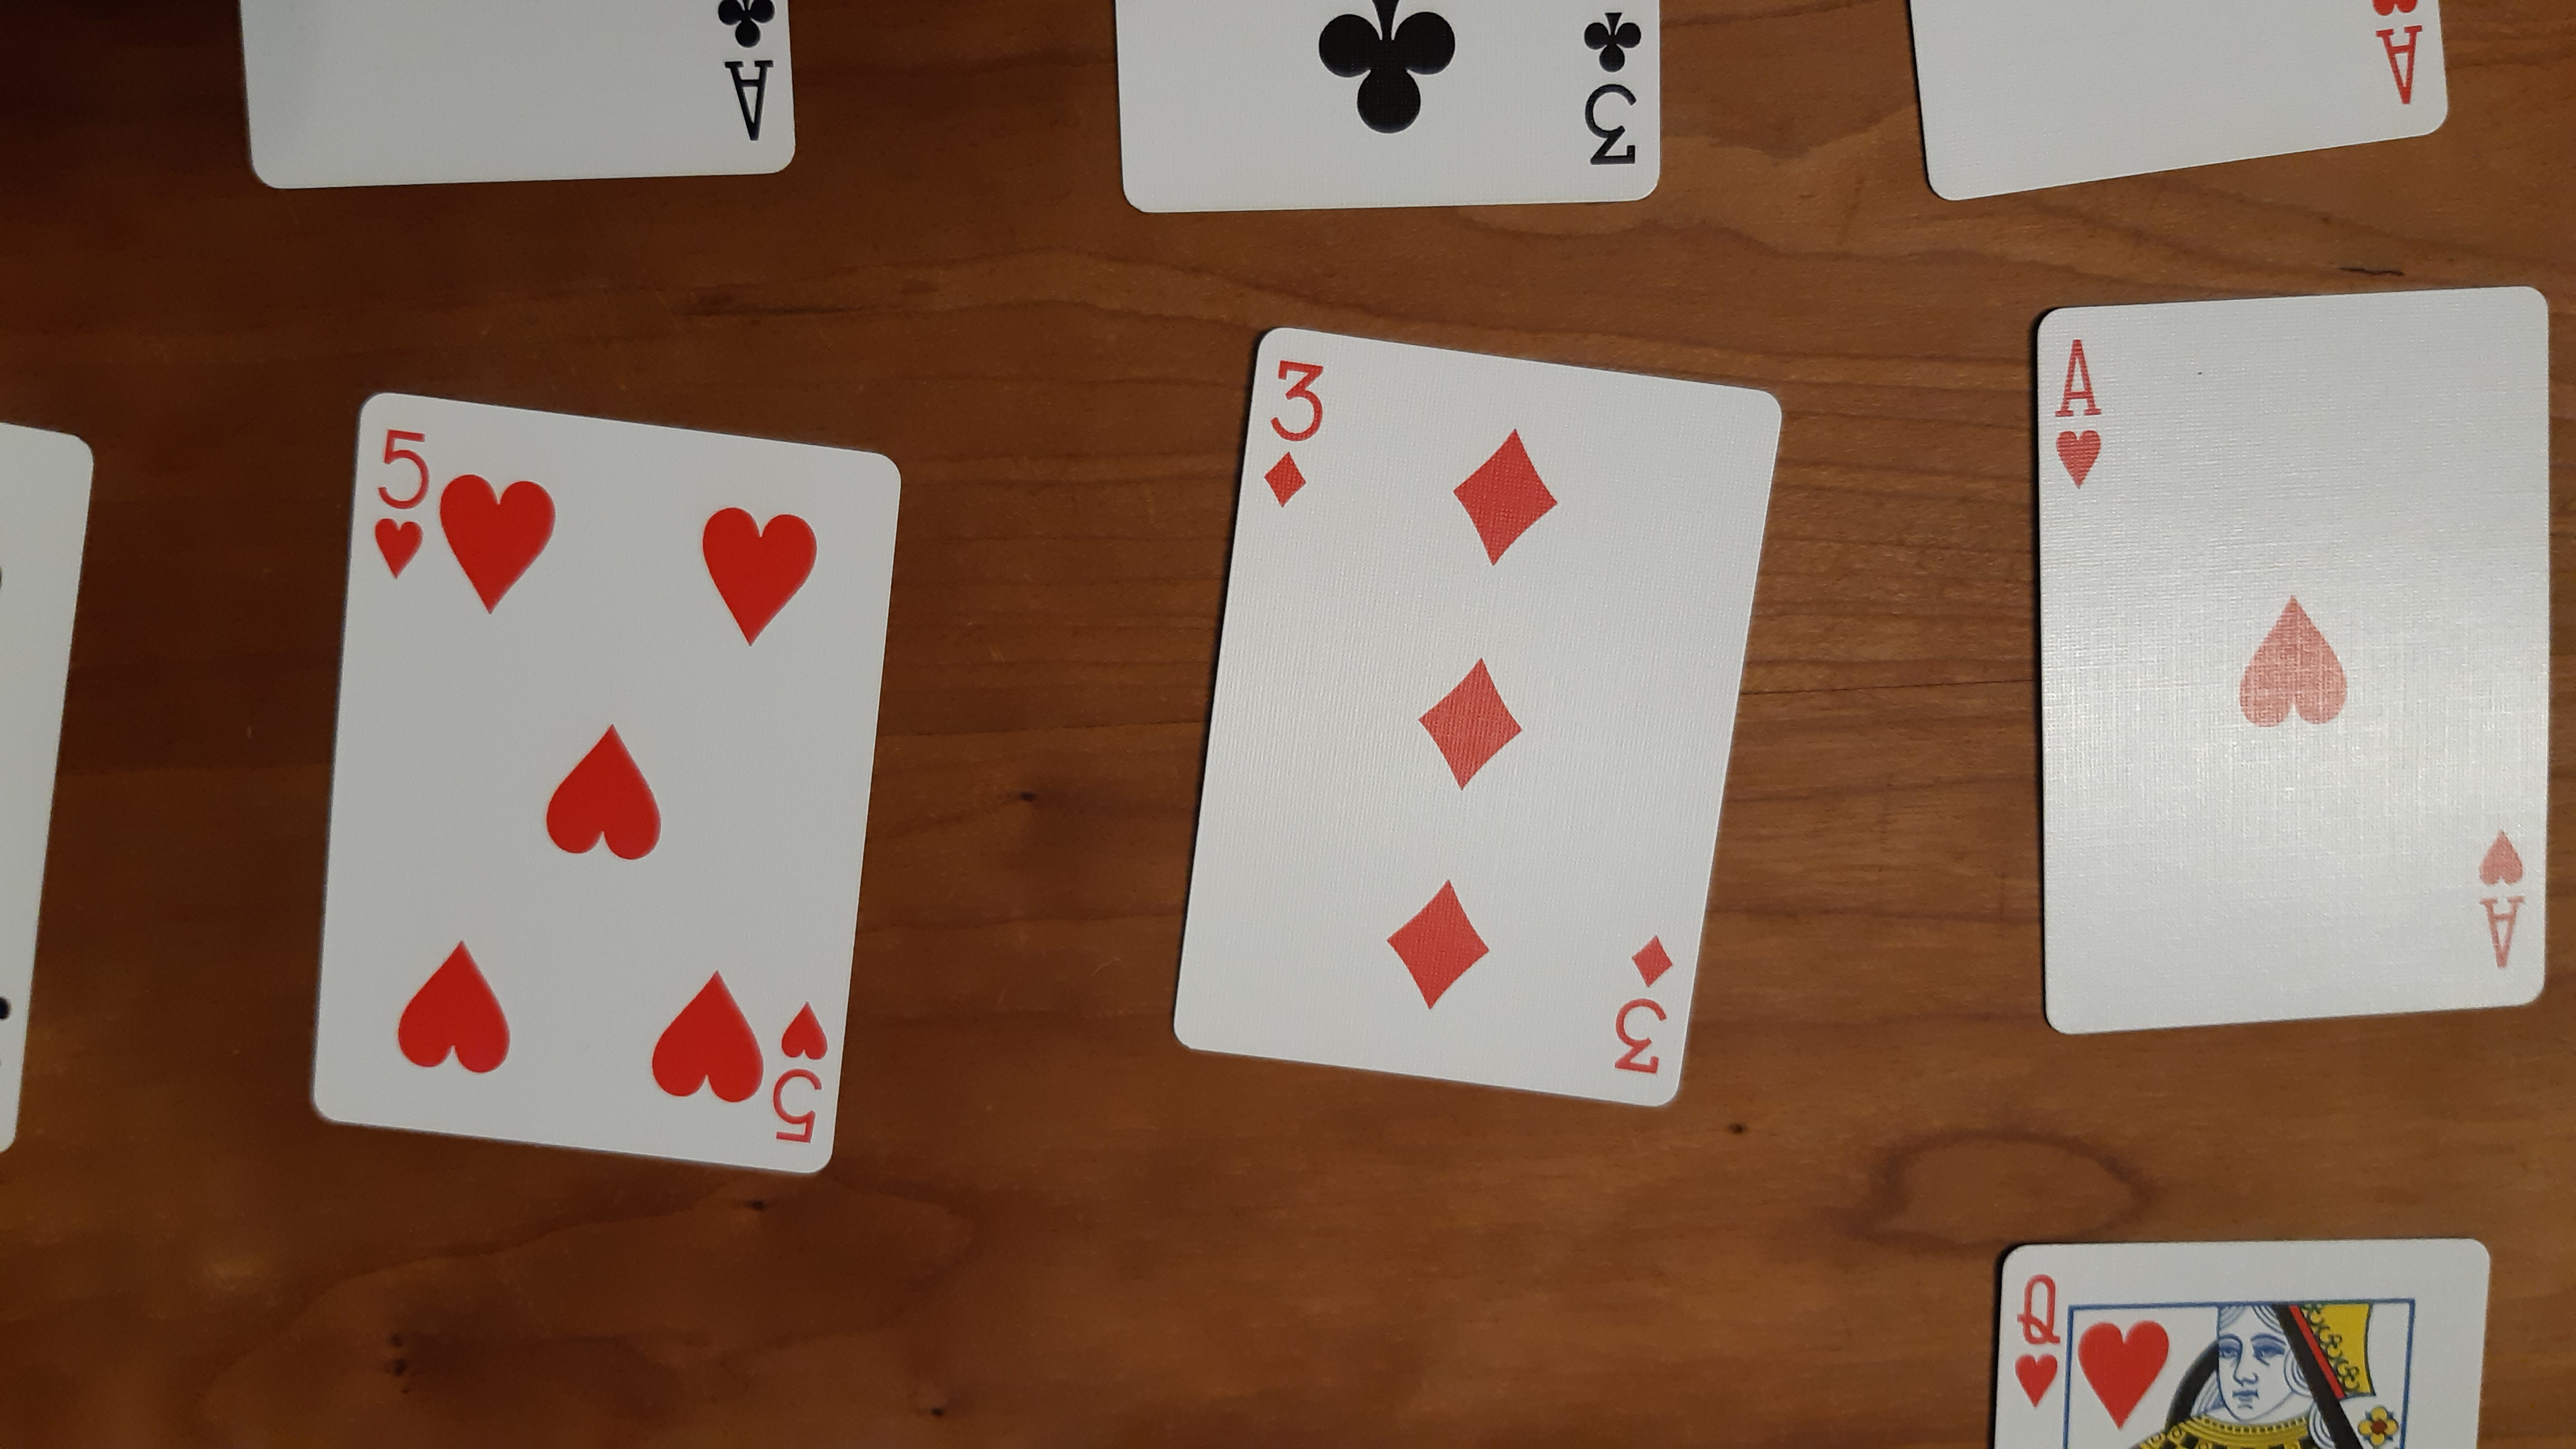Black_Club_3: (1566, 5, 1658, 175)
Black_Club_Ace: (711, 4, 793, 147)
Red_Diamond_3: (1254, 352, 1332, 511), (1612, 929, 1683, 1083)
Red_Heart_5: (364, 423, 435, 580), (768, 1001, 826, 1143)
Red_Heart_Ace: (2049, 334, 2114, 490), (2468, 826, 2532, 980)
Red_Heart_Queen: (2008, 1261, 2068, 1410)
